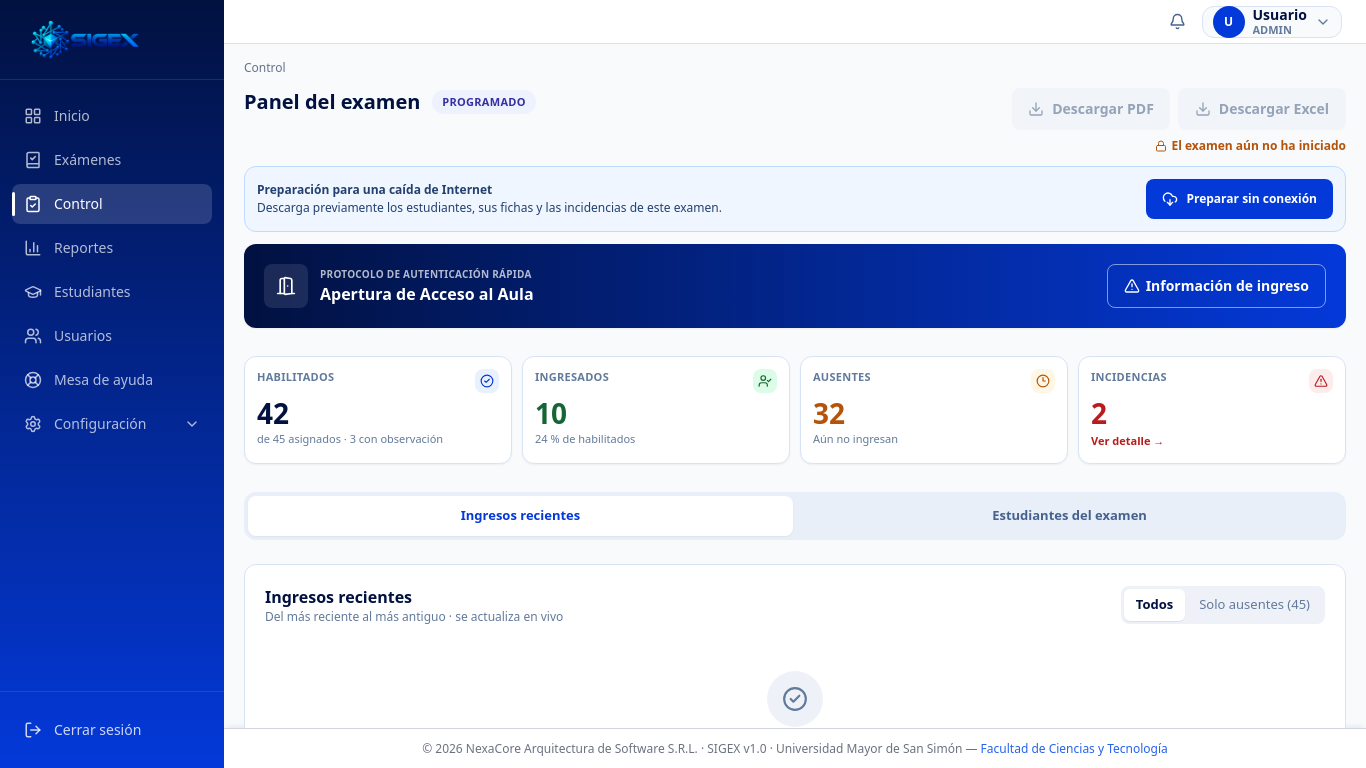
Test case: ControlExamenPage › modal de Expulsar › cierra y descarta la selección al cambiar de página
Later steps or results of the test are not shown.
Click the tab "Estudiantes del examen".
click(1070, 516)  # box [797,496,1342,536]
(page scrolled)
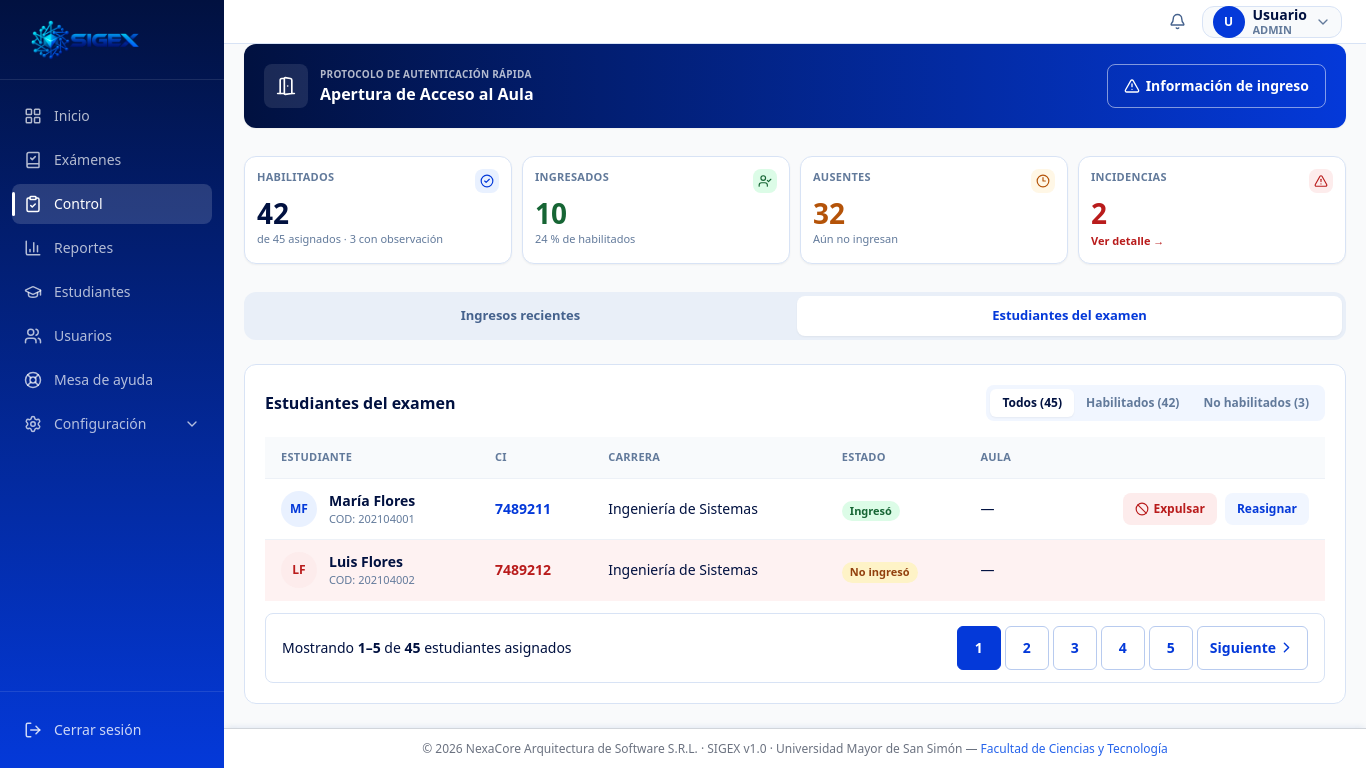
Click the button named "Ir a la página 2".
click(1027, 648)  # box [1005,626,1049,670]
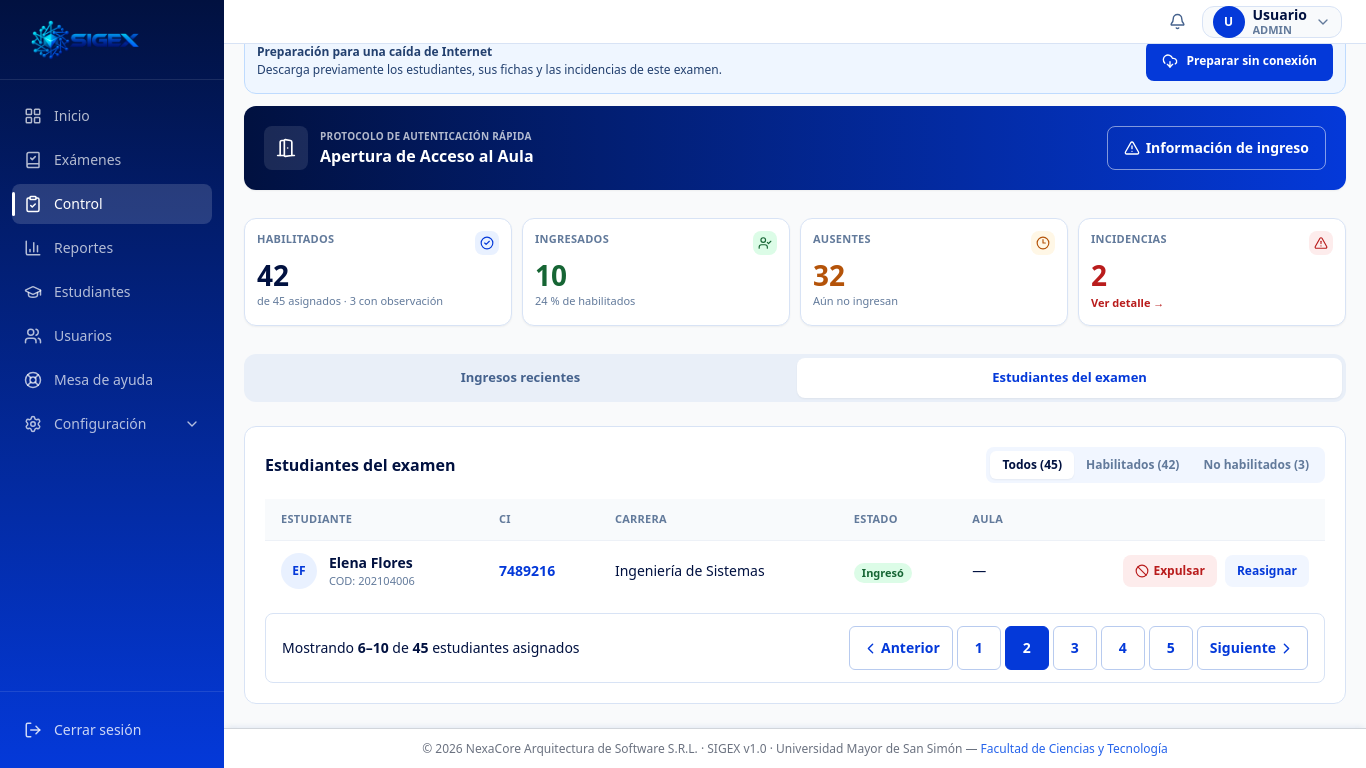
Check: the text "Elena Flores" is shown, box [329,552,415,572]
Click the button "Expulsar".
click(1170, 571)  # box [1124,555,1217,587]
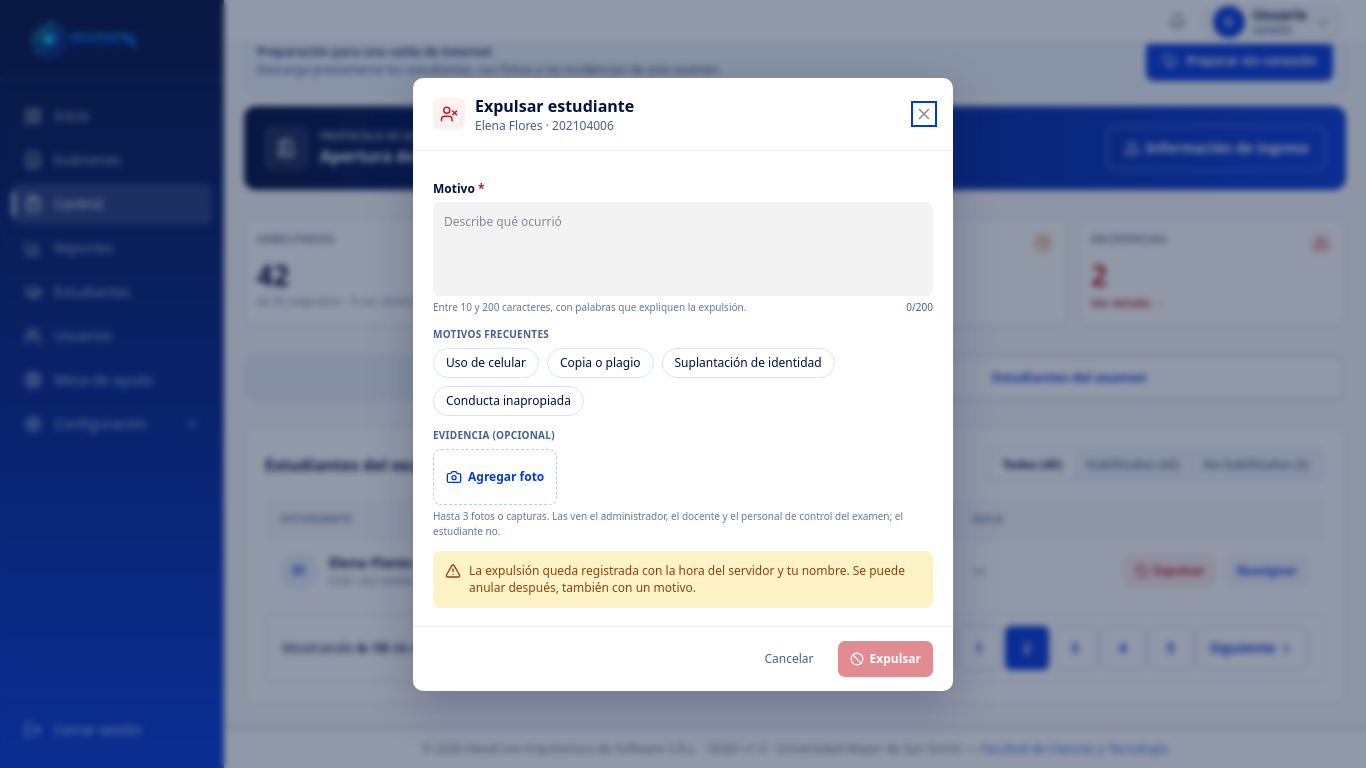
Check: the heading "Expulsar estudiante" is shown, box [475,94,634,118]
